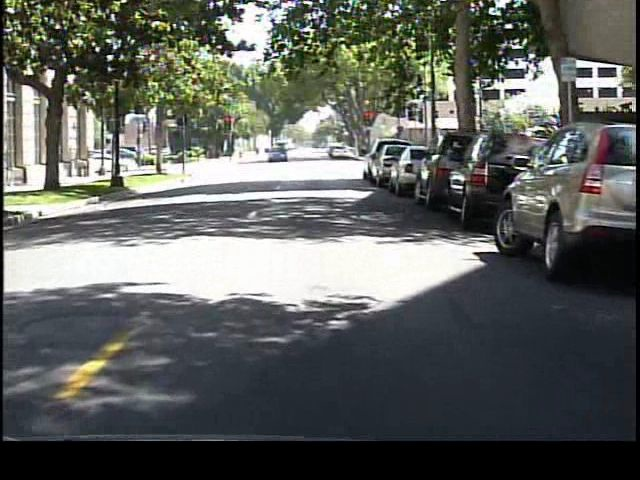person: (235, 140, 249, 165)
